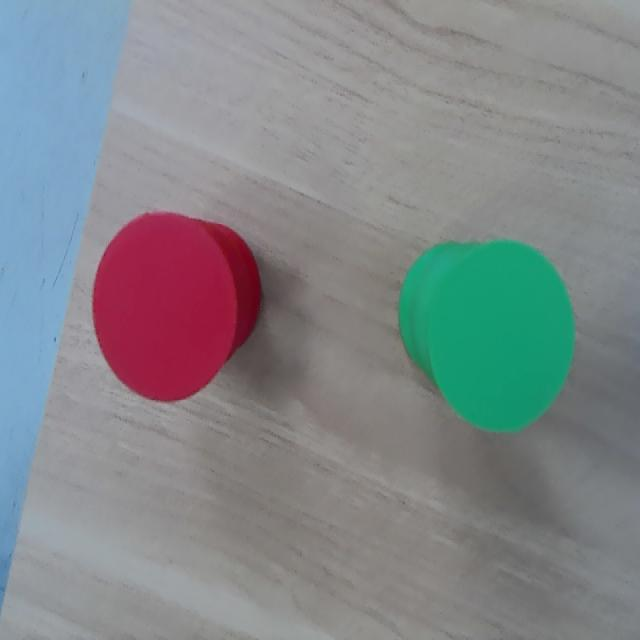g: (429, 240, 575, 432)
r: (92, 210, 238, 402)
